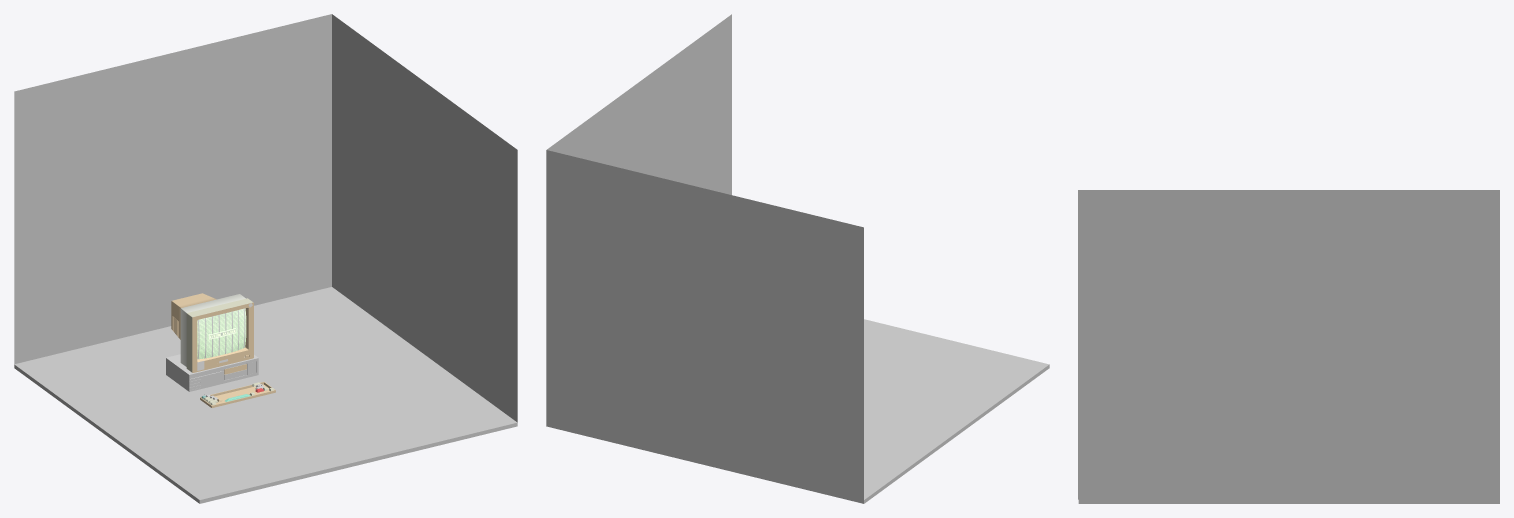
The picture shows the model from 3 angles, left to right: view 1: azimuth 30°, elevation 25°; view 2: azimuth 150°, elevation 25°; view 3: azimuth 270°, elevation 25°; orthographic projection. The views are drawn at different scales.
Visible parts, largest first — view 1: MESA, PC, CPU, Cubo; view 2: MESA; view 3: MESA.
Boxes of the visible parts, x1,y1,x2,y2 form: MESA: (14,14,517,503); PC: (171,293,253,372); CPU: (166,354,258,391); Cubo: (200,382,275,407); MESA: (546,14,1049,503); MESA: (1078,190,1499,503).
Bounding box in the file's own units: 15.63 × 13 × 15.82.
